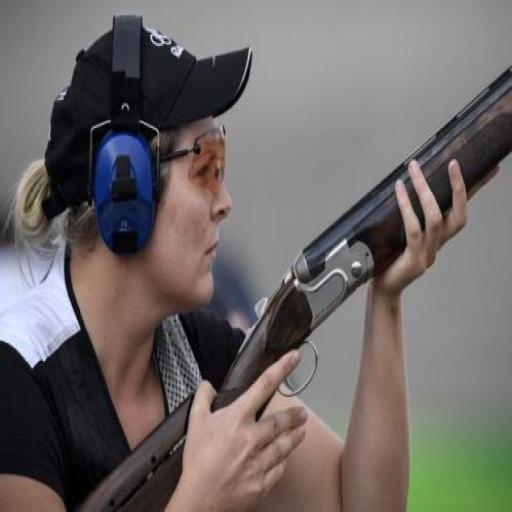shooting: (0, 12, 471, 510)
